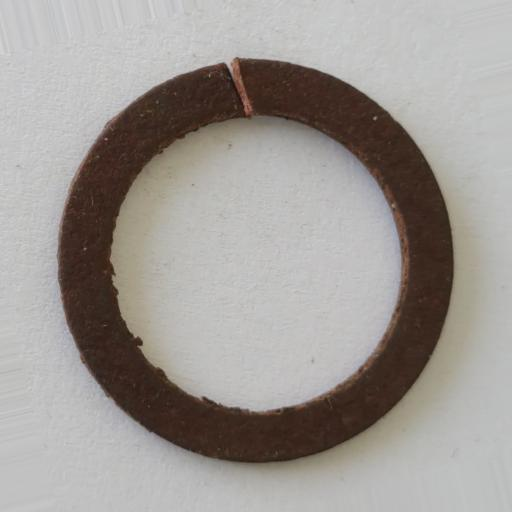defect: (223, 56, 256, 121)
